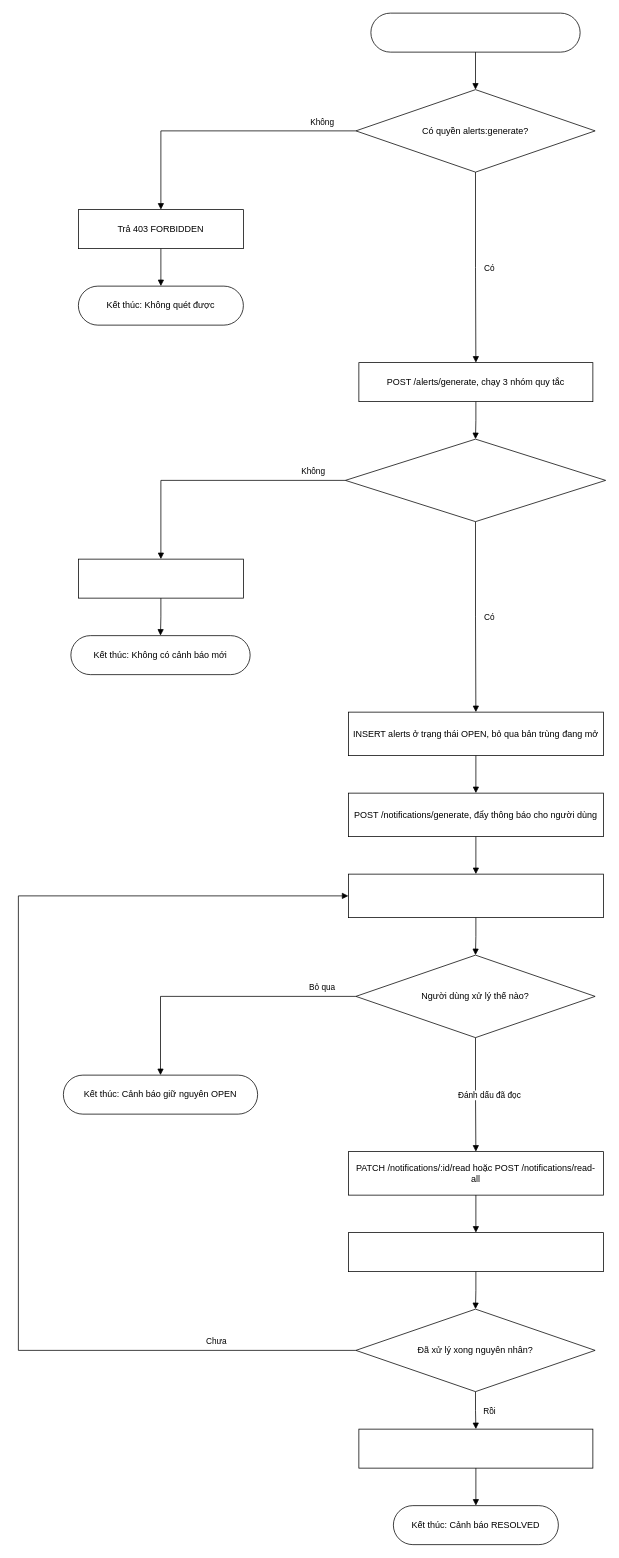
The diagram is 619 pixels wide and 1558 high, and some of its shapes have lost their labels. Here are the shapes that lost their labels. From the top down, the centre of each, then its label:
the point at 475,32: Bắt đầu: Người dùng bấm Quét cảnh báo
the point at 475,480: Có bản ghi nào vi phạm quy tắc?
the point at 160,578: Trả createdCount bằng 0
the point at 475,895: Người dùng mở màn hình Thông báo, GET /notifications
the point at 475,1252: Cảnh báo chuyển READ qua PATCH /alerts/:id/read
the point at 475,1448: PATCH /alerts/:id/resolve, ghi resolved_by
